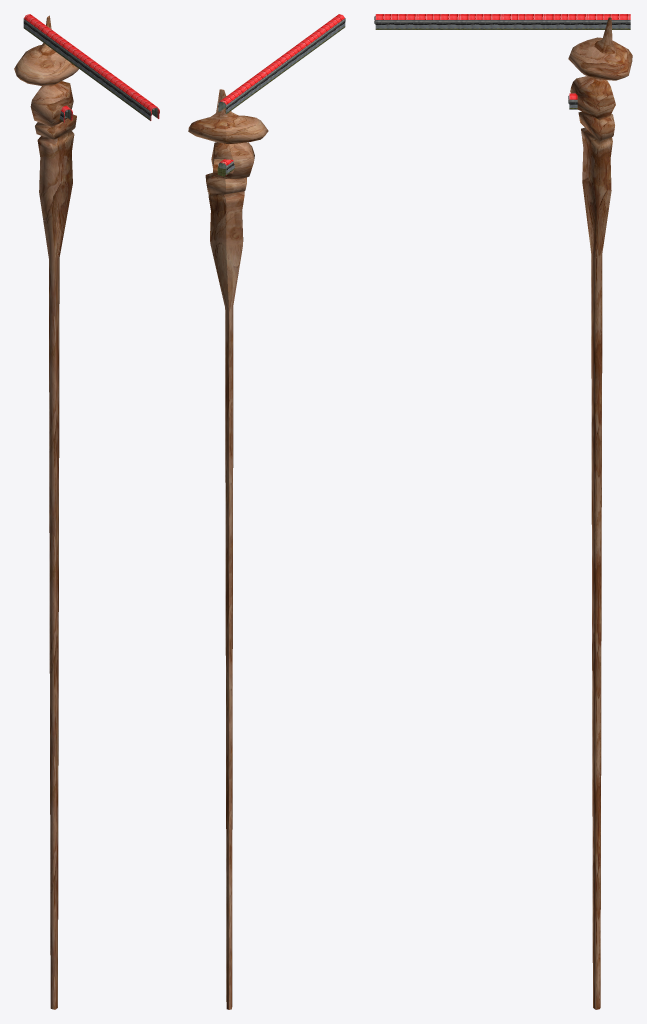
Rendered from Bullet Station 5.fbx.
The picture shows the model from 3 angles, left to right: view 1: azimuth 30°, elevation 25°; view 2: azimuth 150°, elevation 25°; view 3: azimuth 270°, elevation 25°; orthographic projection. The views are drawn at different scales.
Visible parts, largest first — view 1: STG08_ON_05; view 2: STG08_ON_05; view 3: STG08_ON_05.
Part boxes in pixels (left/top/right/bottom): STG08_ON_05: left=14, top=14, right=159, bottom=1009; STG08_ON_05: left=188, top=14, right=345, bottom=1009; STG08_ON_05: left=374, top=14, right=632, bottom=1009.
Bounding box in the file's own units: 194804 × 2591637 × 611212.
